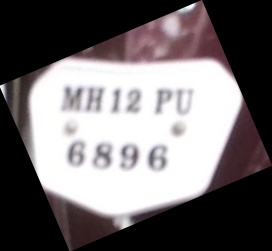character: (57, 85, 83, 112), (65, 138, 86, 167), (145, 144, 167, 171), (90, 141, 111, 168), (117, 142, 137, 170), (84, 87, 104, 113), (152, 88, 172, 114), (174, 88, 193, 115), (124, 87, 141, 113), (109, 88, 121, 113)
